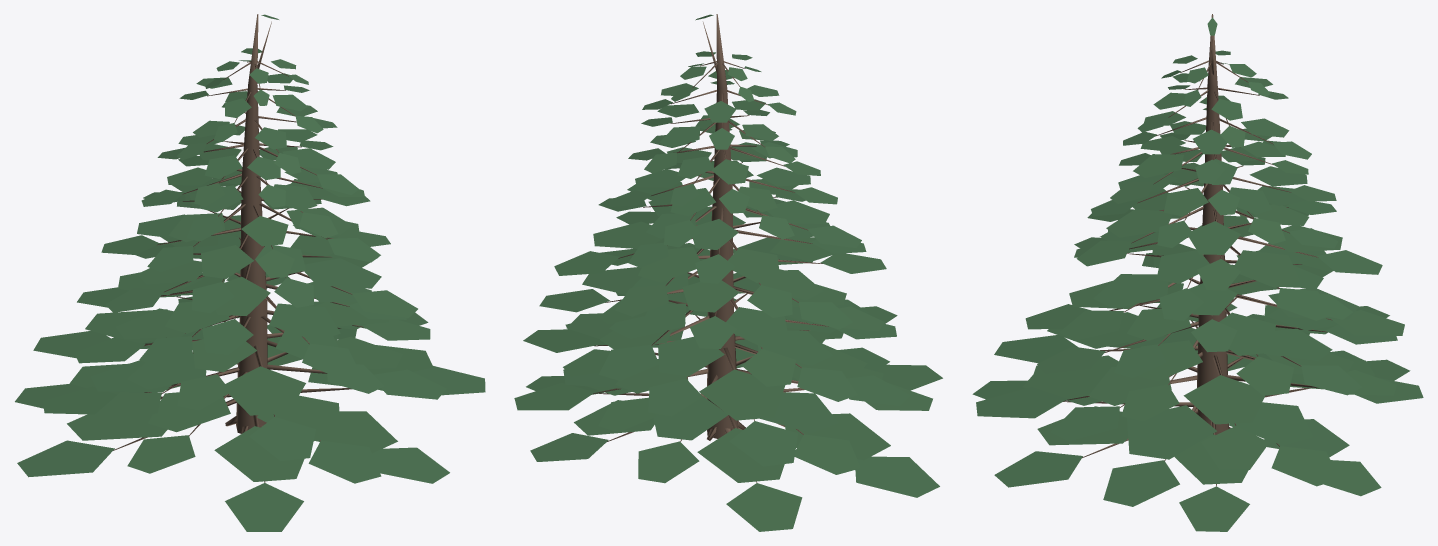
The model's file is hemlock-full-lod2.glb.
3 renders of one model, left to right at view 1: azimuth 30°, elevation 25°; view 2: azimuth 150°, elevation 25°; view 3: azimuth 270°, elevation 25°, orthographic. The views are drawn at different scales.
Parts seen in each view (by area): view 1: tree_hemlock-full_LOD2; view 2: tree_hemlock-full_LOD2; view 3: tree_hemlock-full_LOD2.
Boxes of the visible parts, bbox=[...] form: tree_hemlock-full_LOD2: bbox=[15, 14, 485, 531]; tree_hemlock-full_LOD2: bbox=[514, 14, 942, 531]; tree_hemlock-full_LOD2: bbox=[972, 14, 1423, 531].
Size of the model in its own units: 14.72 by 14.04 by 13.37.
